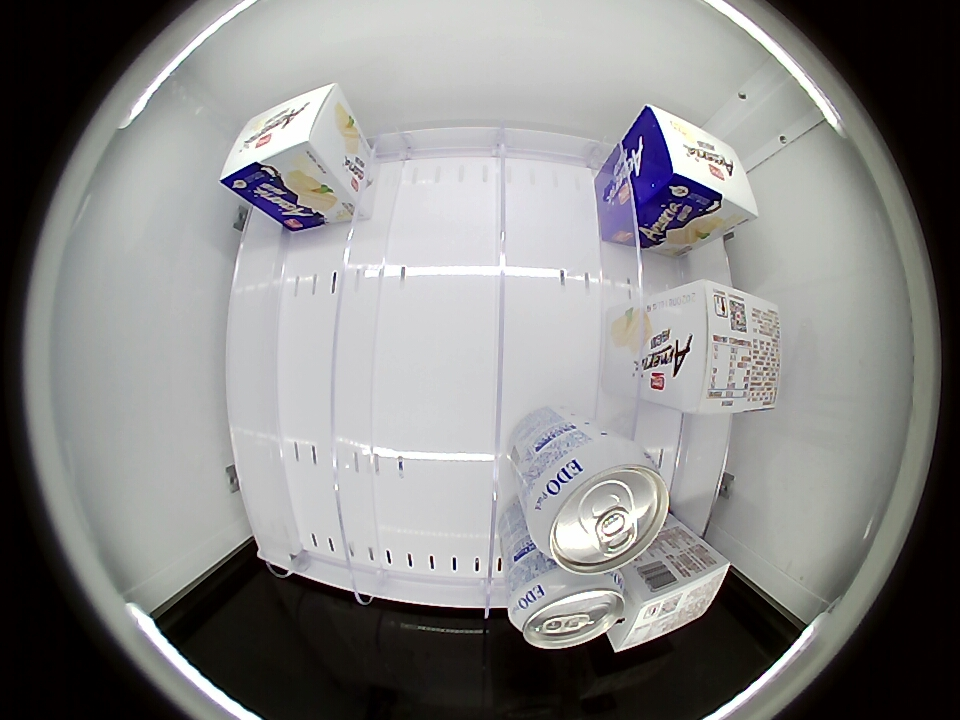meiniye: (652, 279, 783, 416), (632, 104, 759, 228), (218, 82, 349, 199), (614, 549, 729, 655)
rusuanjunqishui: (528, 439, 670, 574), (509, 569, 628, 650)
